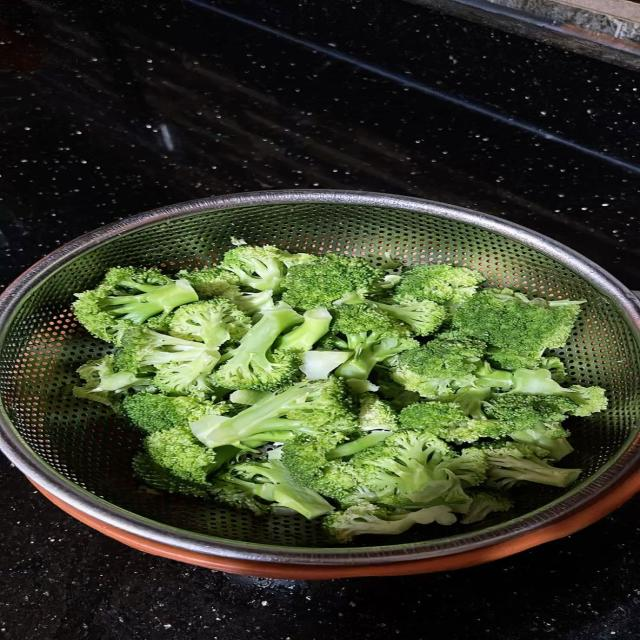broccoli: (191, 378, 357, 446), (74, 268, 198, 342), (452, 290, 583, 356), (348, 430, 459, 507), (215, 305, 302, 390), (115, 328, 219, 397), (216, 459, 333, 519), (332, 305, 418, 379), (390, 333, 484, 399), (487, 394, 576, 460), (281, 432, 362, 503), (281, 254, 384, 309), (144, 427, 238, 484), (323, 502, 456, 542), (337, 293, 447, 336), (114, 327, 219, 372), (400, 402, 513, 443), (509, 369, 607, 416), (220, 245, 316, 292), (122, 393, 230, 433), (482, 443, 580, 487), (167, 298, 251, 347), (74, 355, 150, 407), (394, 265, 485, 307), (133, 453, 213, 498), (487, 394, 576, 429), (154, 354, 219, 399), (487, 348, 566, 382), (374, 300, 446, 336), (277, 308, 332, 351), (400, 402, 467, 437), (509, 424, 573, 460), (374, 366, 421, 411), (178, 267, 239, 299), (327, 430, 389, 460), (461, 489, 513, 524), (447, 448, 489, 488), (445, 385, 492, 419), (300, 351, 353, 380), (359, 393, 399, 431), (233, 290, 275, 316), (474, 362, 513, 389), (229, 390, 268, 405), (347, 379, 379, 395)
